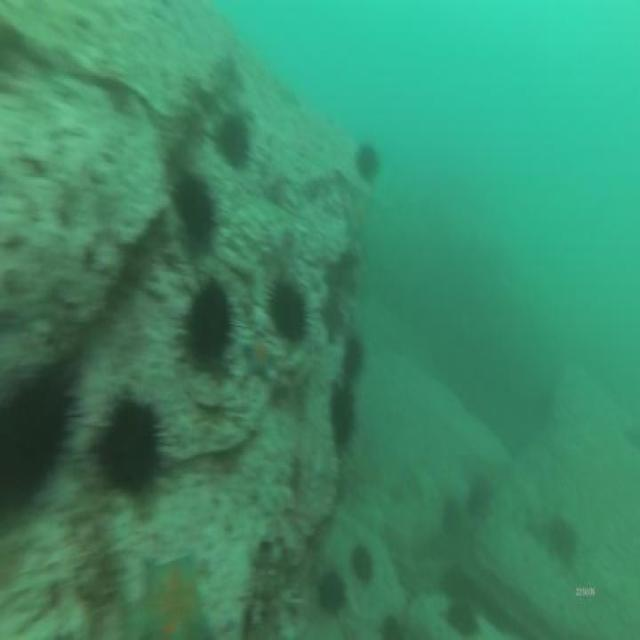echinus: (0, 366, 82, 508), (89, 394, 167, 504), (177, 272, 235, 374), (263, 275, 311, 349), (172, 169, 218, 245), (214, 107, 252, 174), (327, 379, 357, 454), (545, 510, 580, 572), (314, 566, 348, 619), (445, 596, 482, 640), (353, 138, 382, 186), (341, 332, 367, 385), (466, 478, 494, 524), (348, 539, 374, 588), (377, 610, 403, 640)
starfish: (129, 553, 216, 640), (241, 327, 279, 387)
